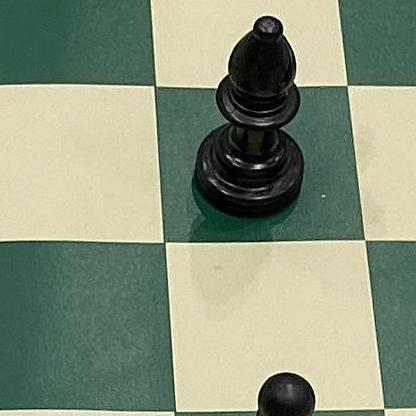black-bishop: (176, 0, 318, 231)
black-pawn: (206, 352, 340, 416)
